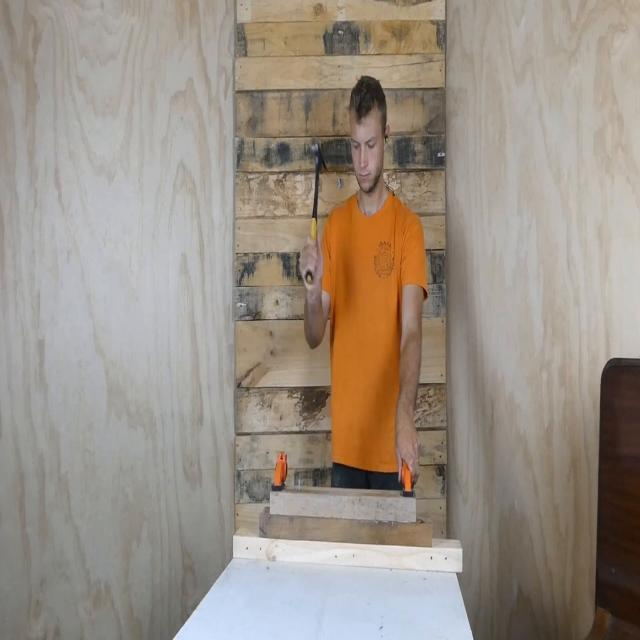hammer: (306, 134, 329, 293)
